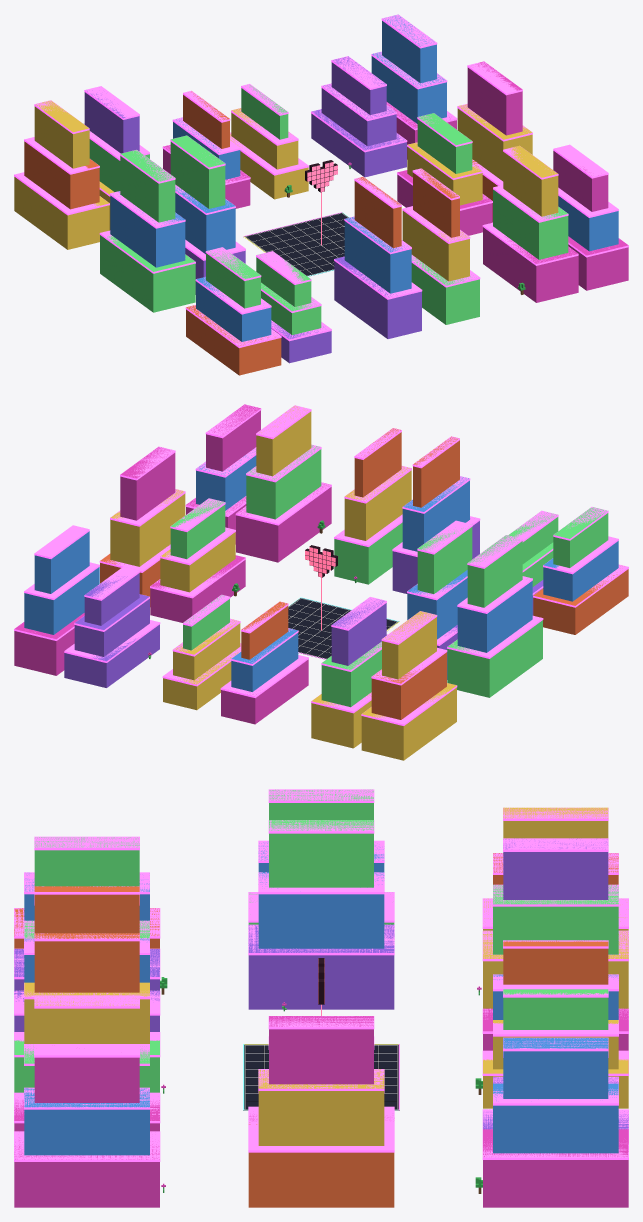
3 views of the same model, one above another, from view 1: azimuth 30°, elevation 25°; view 2: azimuth 150°, elevation 25°; view 3: azimuth 270°, elevation 25° (orthographic). The views are drawn at different scales.
Visible parts, largest first — view 1: district_city_pixel.lod1; view 2: district_city_pixel.lod1; view 3: district_city_pixel.lod1.
Boxes of the visible parts, x1=… form: district_city_pixel.lod1: x1=14, y1=14, x2=628, y2=375; district_city_pixel.lod1: x1=14, y1=404, x2=628, y2=760; district_city_pixel.lod1: x1=14, y1=789, x2=628, y2=1207.
Size of the model in its own units: 97.1 by 29.96 by 97.1.
